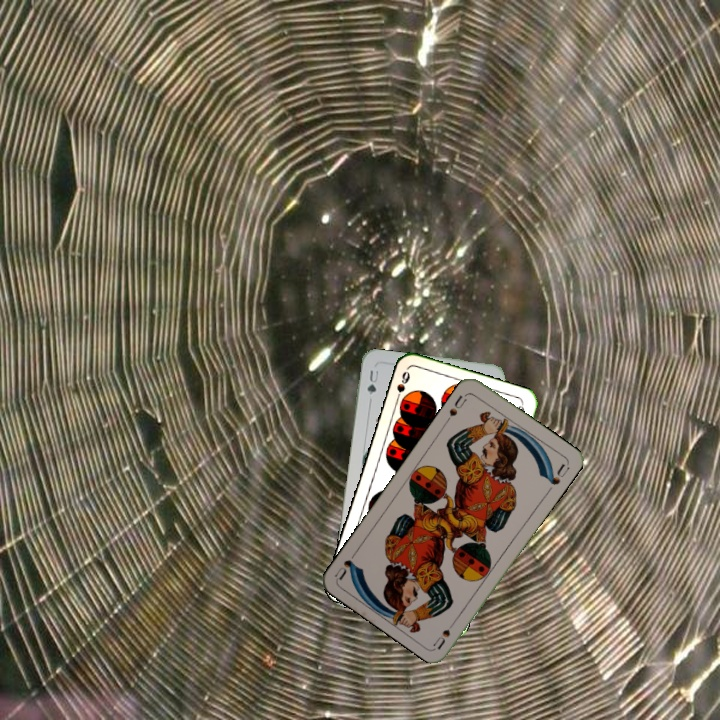GU: (363, 366, 381, 398)
S9: (392, 367, 412, 406)
SU: (430, 614, 461, 651), (442, 390, 470, 425)
